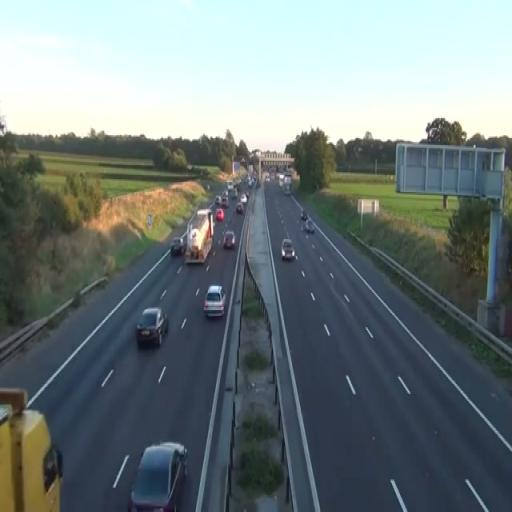Car: (128, 442, 188, 511), (135, 308, 169, 348), (204, 284, 226, 318), (281, 239, 295, 262), (170, 237, 185, 257), (222, 230, 236, 250), (216, 208, 224, 222)
Truck: (185, 208, 214, 263)
